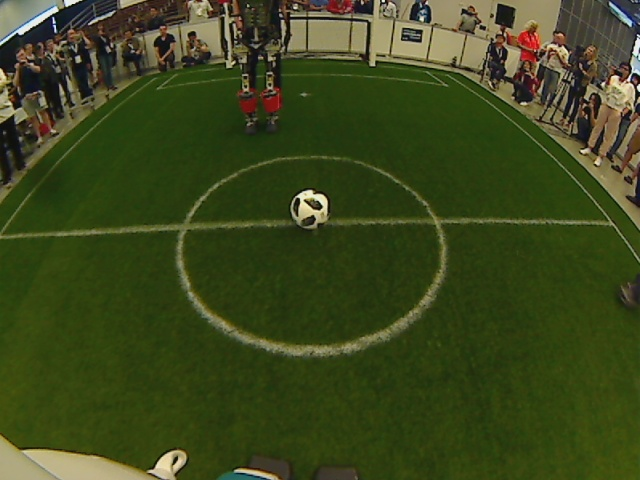ball: (286, 186, 334, 234)
